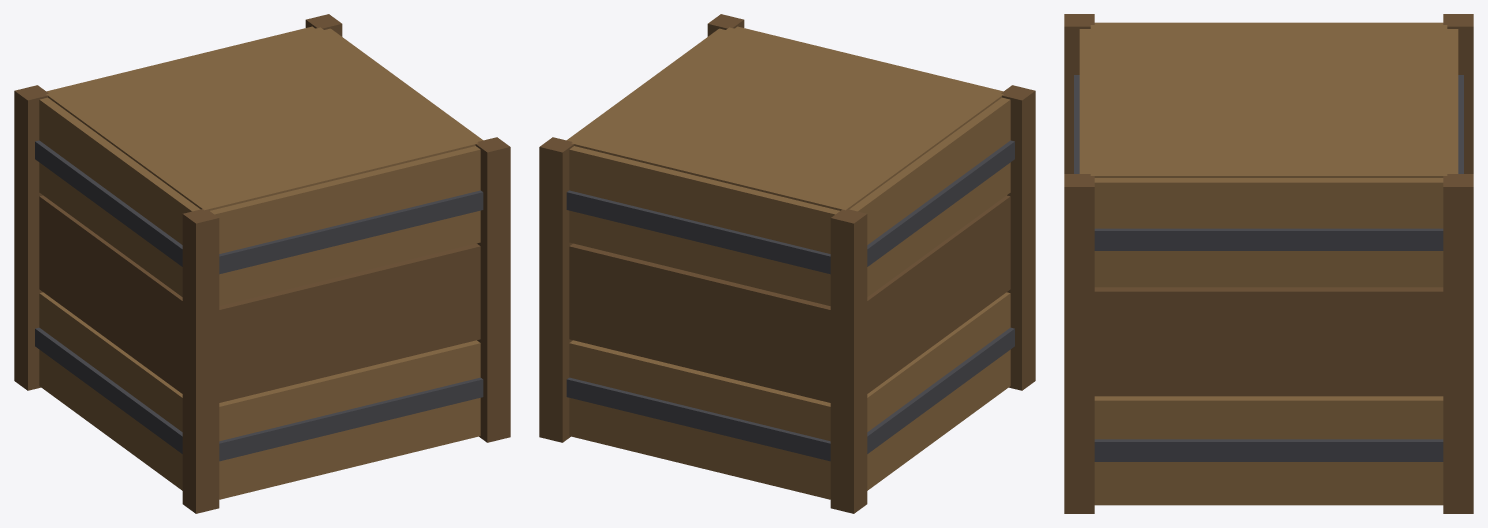
Rendered from crate.glb.
3 renders of one model, left to right at view 1: azimuth 30°, elevation 25°; view 2: azimuth 150°, elevation 25°; view 3: azimuth 270°, elevation 25°, orthographic. The views are drawn at different scales.
Visible parts, largest first — view 1: Mesh_Lid, Mesh_RightBoard1, Mesh_RightBoard2, Mesh_RightBoard0, Mesh_BackBoard1, Mesh_BackBoard2, Mesh_Post_BR, Mesh_BackBoard0, Mesh_Post_FR, Mesh_Post_BL, Mesh_BandRight0, Mesh_BandRight1 (+4 smaller); view 2: Mesh_Lid, Mesh_LeftBoard1, Mesh_LeftBoard2, Mesh_LeftBoard0, Mesh_BackBoard1, Mesh_BackBoard2, Mesh_Post_BL, Mesh_BackBoard0, Mesh_Post_FL, Mesh_Post_BR, Mesh_BandLeft0, Mesh_BandLeft1 (+4 smaller); view 3: Mesh_Lid, Mesh_FrontBoard1, Mesh_FrontBoard0, Mesh_FrontBoard2, Mesh_Post_FL, Mesh_Post_FR, Mesh_BandFront0, Mesh_BandFront1, Mesh_Post_BL, Mesh_Post_BR, Mesh_LeftBoard2, Mesh_RightBoard2 (+3 smaller).
Boxes of the visible parts, <box> form: Mesh_Lid: <box>46,27,478,210</box>; Mesh_RightBoard1: <box>219,243,480,402</box>; Mesh_RightBoard2: <box>210,146,480,305</box>; Mesh_RightBoard0: <box>219,340,480,499</box>; Mesh_BackBoard1: <box>39,195,182,393</box>; Mesh_BackBoard2: <box>39,97,210,296</box>; Mesh_Post_BR: <box>182,209,219,513</box>; Mesh_BackBoard0: <box>39,292,182,490</box>; Mesh_Post_FR: <box>475,137,510,442</box>; Mesh_Post_BL: <box>14,85,48,390</box>; Mesh_BandRight0: <box>219,377,483,461</box>; Mesh_BandRight1: <box>219,190,483,274</box>; Mesh_Lid: <box>571,27,1003,210</box>; Mesh_LeftBoard1: <box>569,243,830,402</box>; Mesh_LeftBoard2: <box>569,146,839,305</box>; Mesh_LeftBoard0: <box>569,340,830,499</box>; Mesh_BackBoard1: <box>867,195,1010,393</box>; Mesh_BackBoard2: <box>839,97,1010,296</box>; Mesh_Post_BL: <box>830,209,867,513</box>; Mesh_BackBoard0: <box>867,292,1010,490</box>; Mesh_Post_FL: <box>539,137,574,442</box>; Mesh_Post_BR: <box>1001,85,1035,390</box>; Mesh_BandLeft0: <box>566,377,830,461</box>; Mesh_BandLeft1: <box>566,190,830,274</box>; Mesh_Lid: <box>1090,25,1447,177</box>; Mesh_FrontBoard1: <box>1094,287,1443,396</box>; Mesh_FrontBoard0: <box>1094,396,1443,505</box>; Mesh_FrontBoard2: <box>1094,178,1443,287</box>; Mesh_Post_FL: <box>1443,174,1473,513</box>; Mesh_Post_FR: <box>1064,174,1094,513</box>; Mesh_BandFront0: <box>1094,439,1443,461</box>; Mesh_BandFront1: <box>1094,228,1443,250</box>; Mesh_Post_BL: <box>1443,14,1473,173</box>; Mesh_Post_BR: <box>1064,14,1094,173</box>; Mesh_LeftBoard2: <box>1440,29,1458,178</box>; Mesh_RightBoard2: <box>1079,29,1097,178</box>.
Size of the model in its own units: 1.02 by 0.9 by 1.02.
